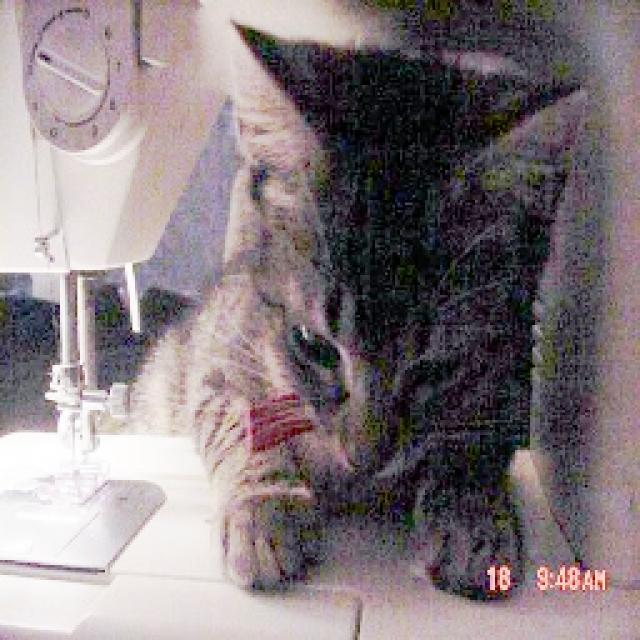cat: (116, 19, 578, 614)
